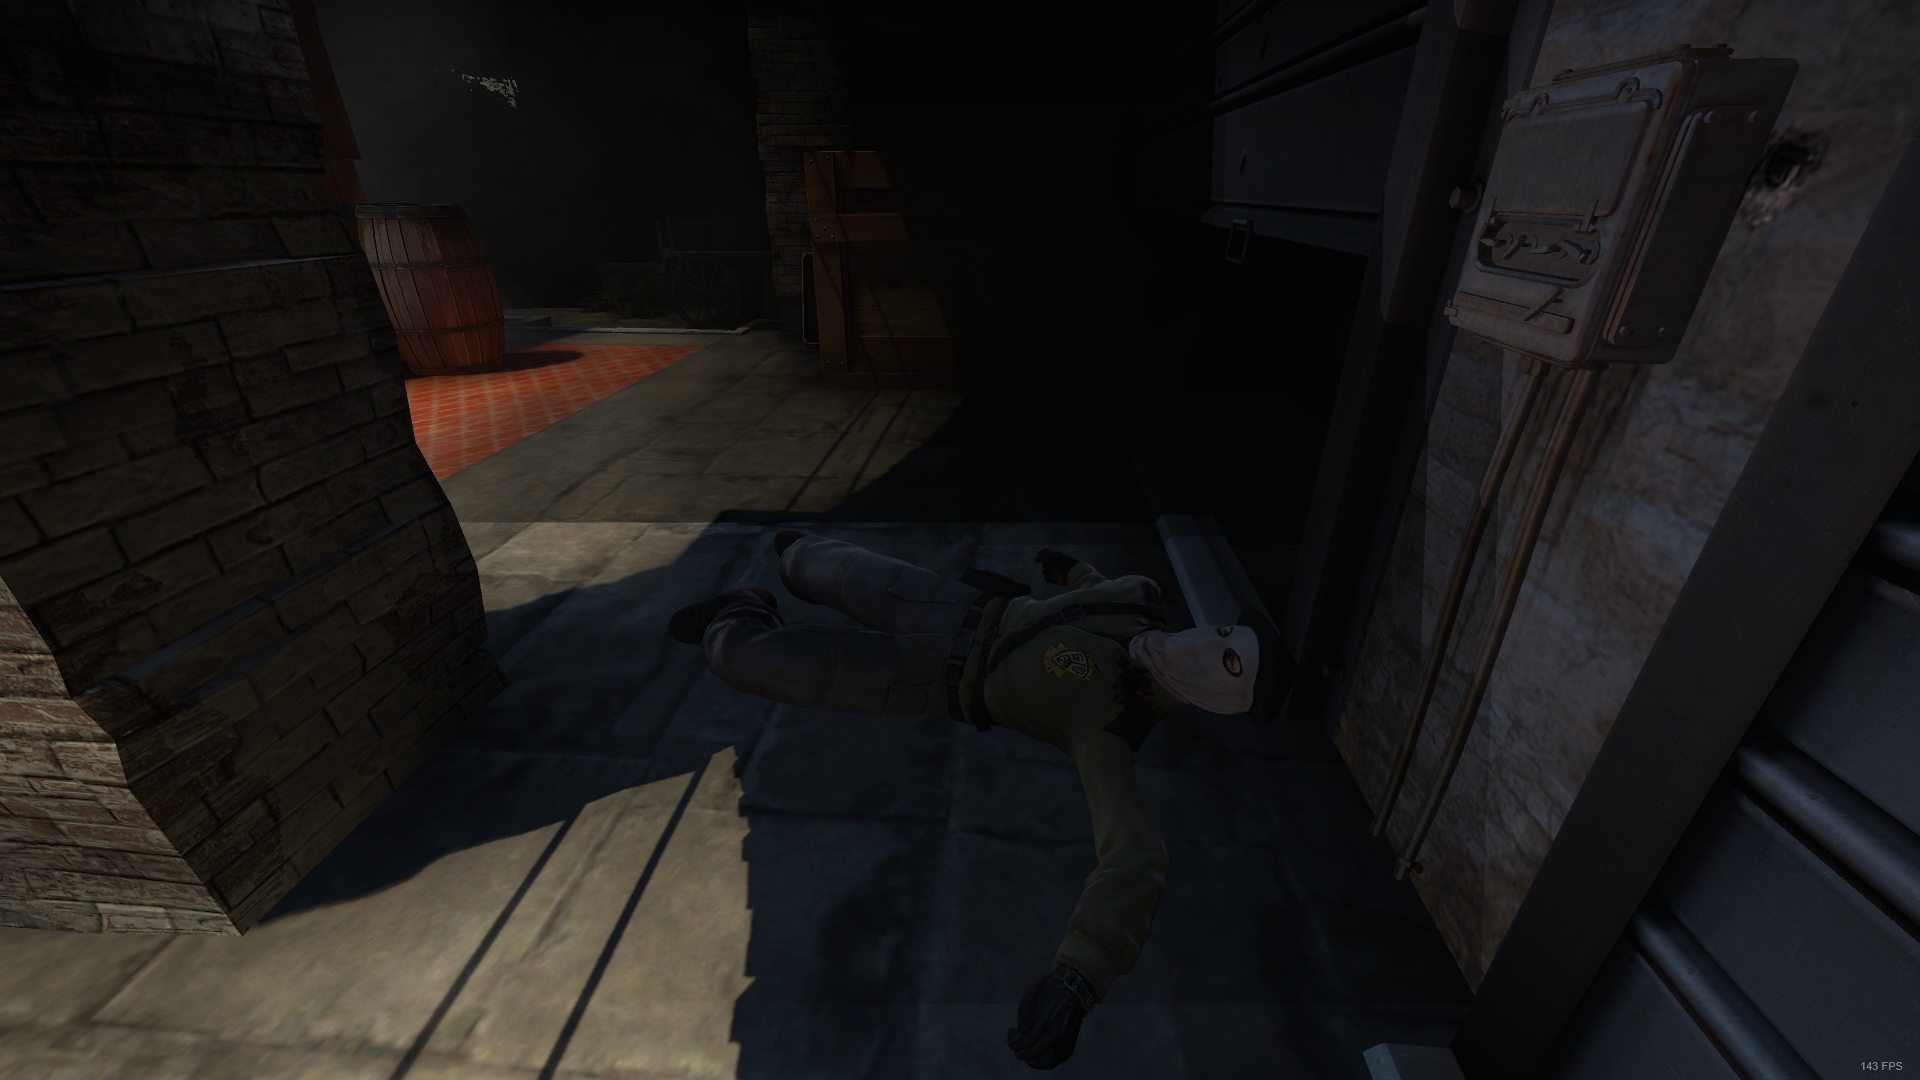t: (666, 529, 1294, 1068)
